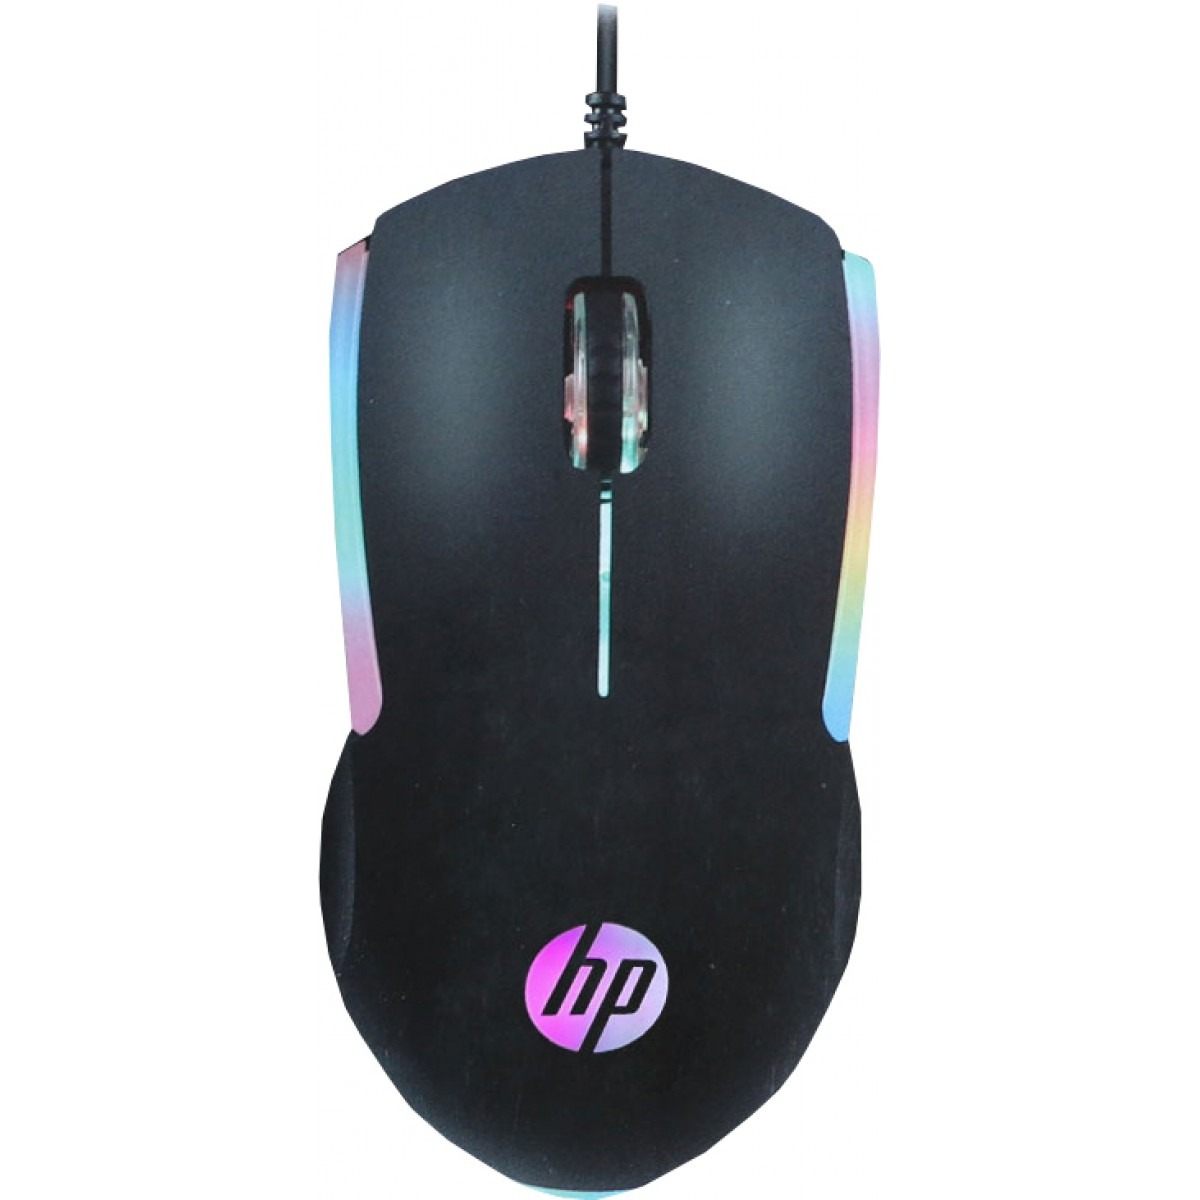mouse: (260, 131, 888, 1189)
